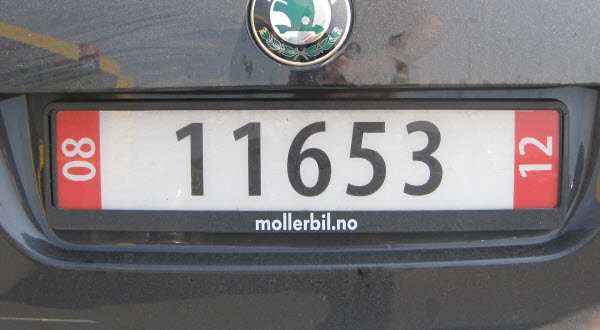license_plate: (52, 107, 561, 212)
